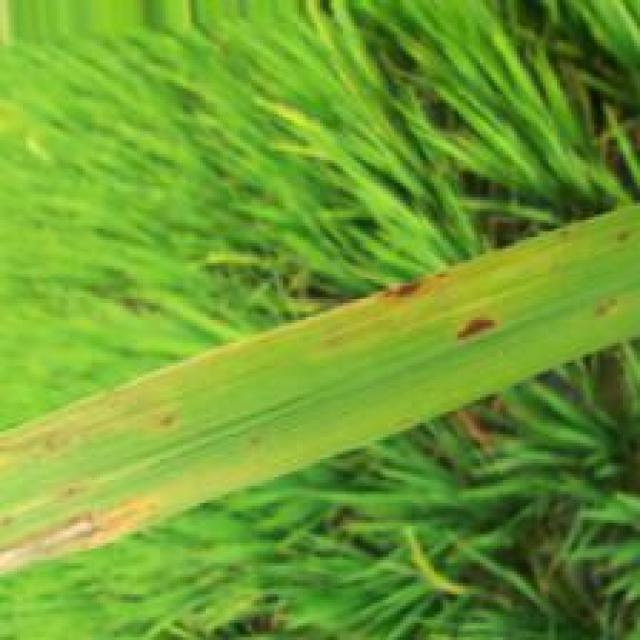Leaf_Blast: (0, 501, 151, 574), (367, 277, 434, 310), (450, 314, 499, 344)
